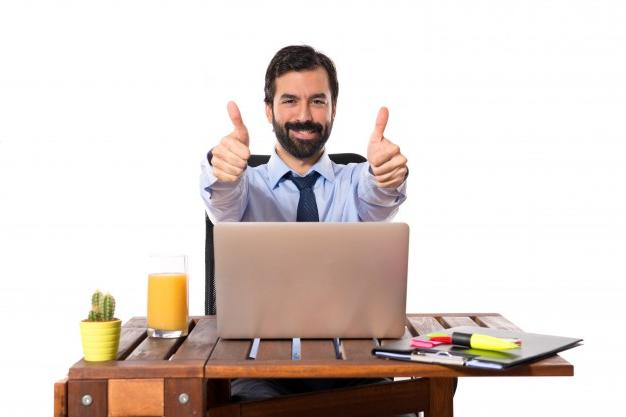thumbsup: (211, 100, 251, 182), (371, 106, 408, 188)
